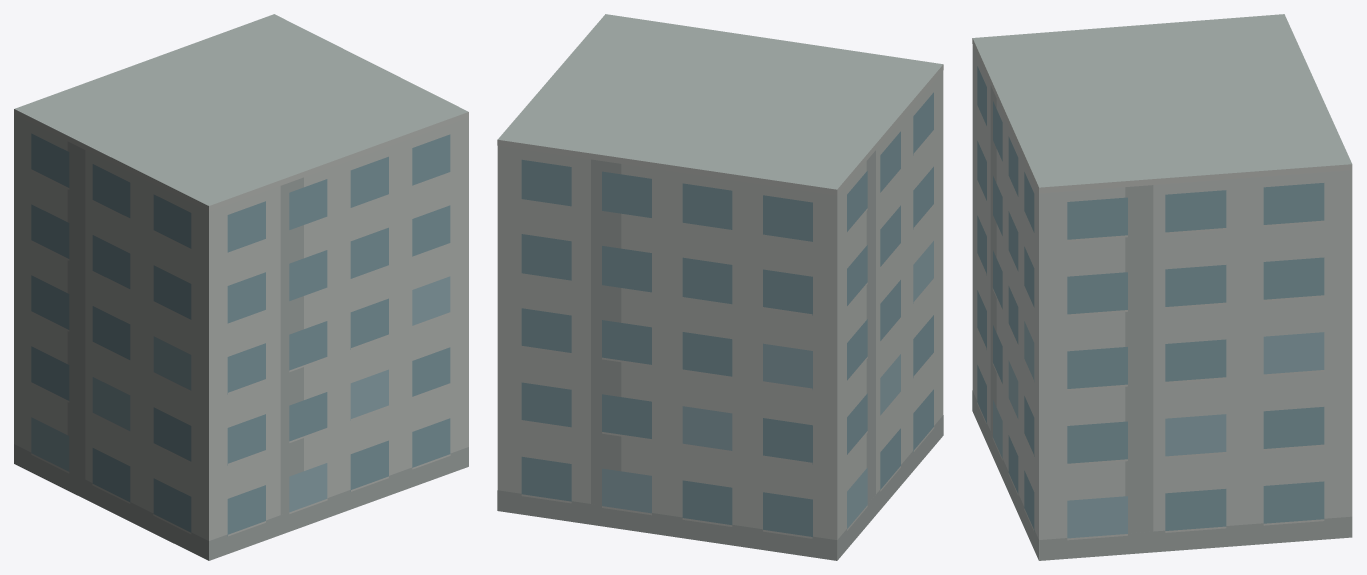
File: survey-upis-32843788.glb
The picture shows the model from 3 angles, left to right: view 1: azimuth 30°, elevation 25°; view 2: azimuth 150°, elevation 25°; view 3: azimuth 270°, elevation 25°; orthographic projection. The views are drawn at different scales.
Visible parts, largest first — view 1: survey-upis-32843788.tmp; view 2: survey-upis-32843788.tmp; view 3: survey-upis-32843788.tmp.
Boxes of the visible parts, x1,y1,x2,y2 form: survey-upis-32843788.tmp: [14, 14, 468, 560]; survey-upis-32843788.tmp: [497, 14, 943, 560]; survey-upis-32843788.tmp: [972, 14, 1352, 560].
Bounding box in the file's own units: 15.07 × 15.1 × 13.93.
